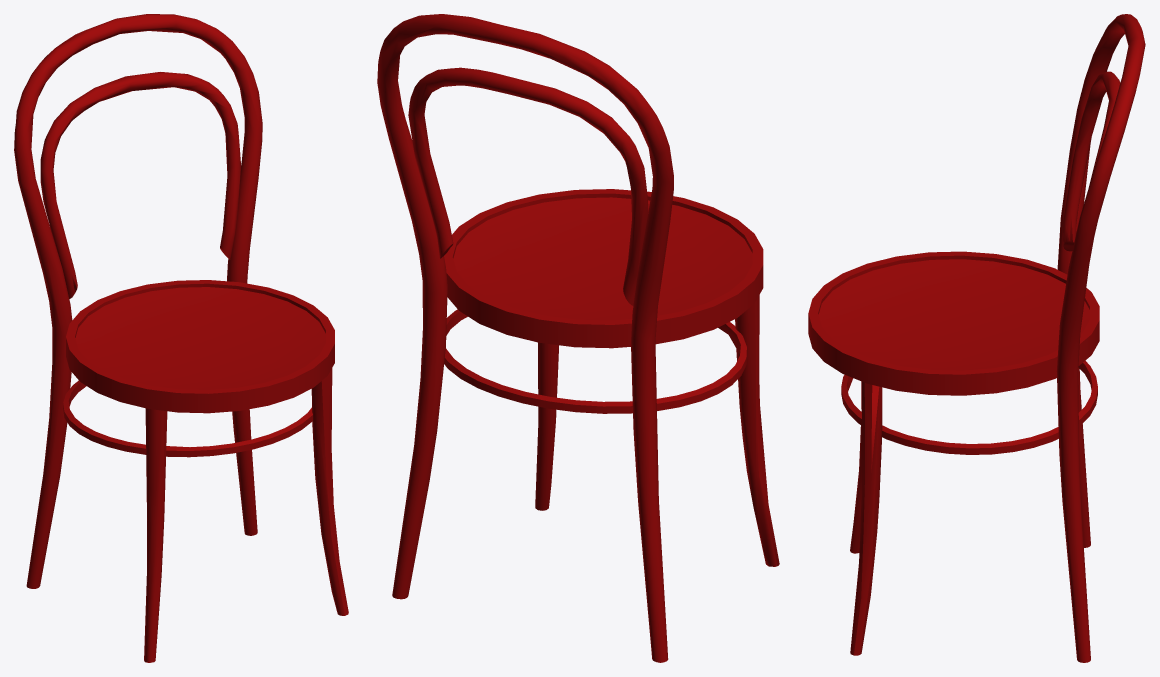
Rendered from Chair 2.FBX.
3 renders of one model, left to right at view 1: azimuth 30°, elevation 25°; view 2: azimuth 150°, elevation 25°; view 3: azimuth 270°, elevation 25°, orthographic. The views are drawn at different scales.
Visible parts, largest first — view 1: Chair 2; view 2: Chair 2; view 3: Chair 2.
Part boxes in pixels (x1,y1,x2,y2): Chair 2: (14,14,348,662); Chair 2: (377,14,779,662); Chair 2: (808,14,1145,662).
Size of the model in its own units: 50.51 by 104 by 56.13.
1 material, 1 textured.
